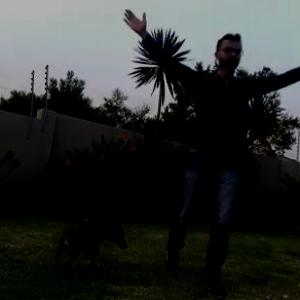takeoff: (130, 7, 297, 285)
